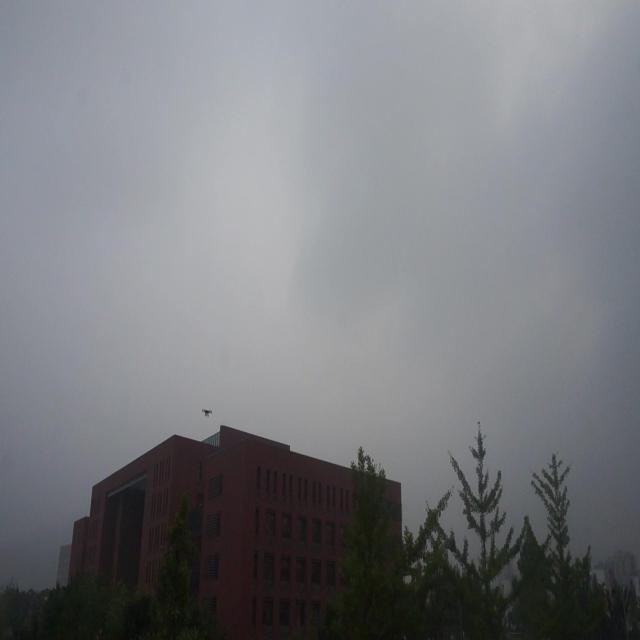drone: (200, 405, 214, 421)
